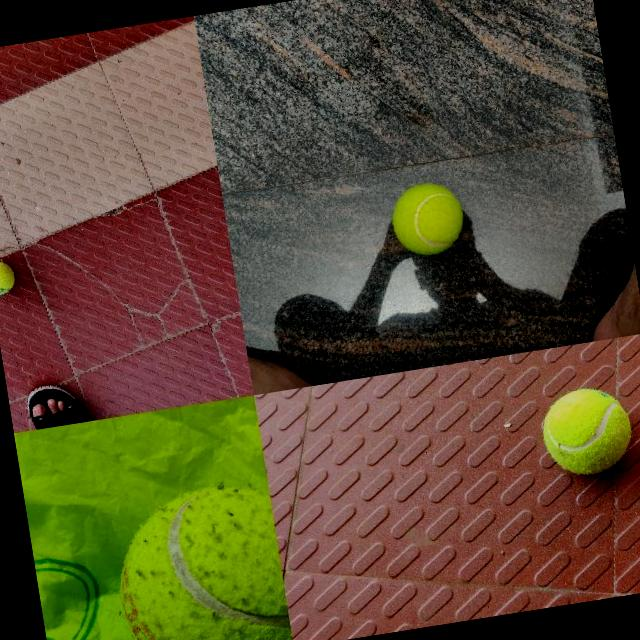tennis-ball: (102, 477, 293, 640), (538, 384, 636, 481), (388, 178, 468, 260), (0, 258, 18, 296)
